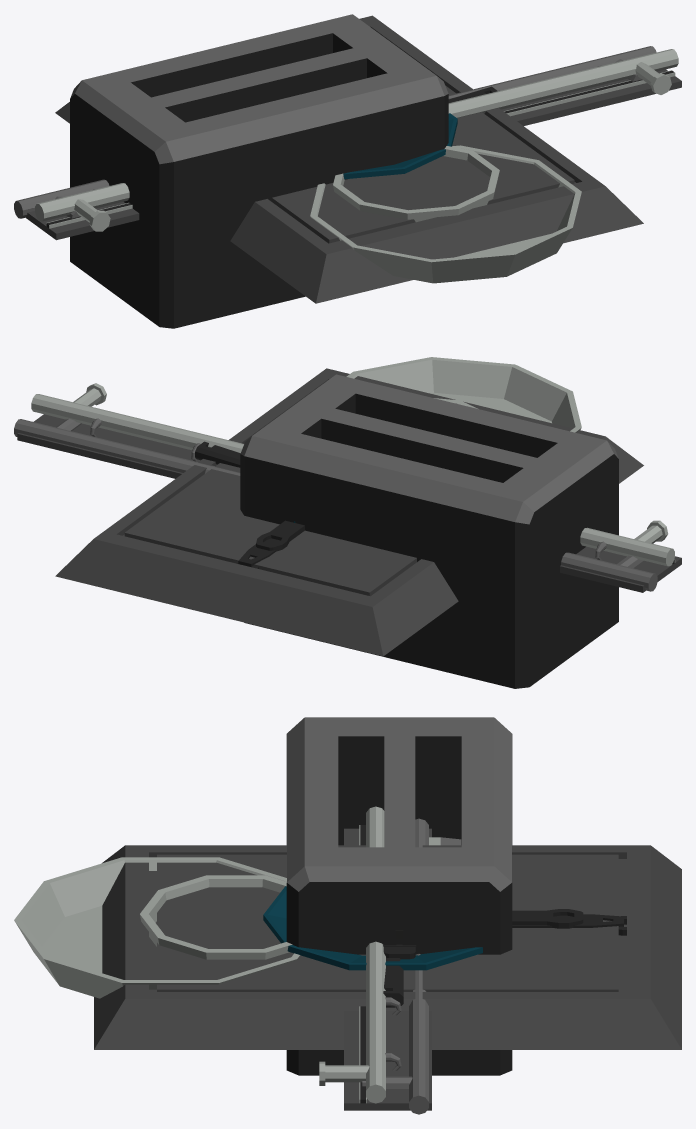
Rendered from low-poly-set-of-kitchen-utensils-502a9d.glb.
3 views of the same model, one above another, from view 1: azimuth 30°, elevation 25°; view 2: azimuth 150°, elevation 25°; view 3: azimuth 270°, elevation 25° (orthographic). The views are drawn at different scales.
Visible parts, largest first — view 1: PropMesh; view 2: PropMesh; view 3: PropMesh.
Part boxes in pixels (x1,y1,x2,y2): PropMesh: (14,14,681,328); PropMesh: (14,357,681,688); PropMesh: (14,717,681,1114).
Size of the model in its own units: 8.09 by 2.2 by 6.52.
Materials: 2 (2 with a texture image).
